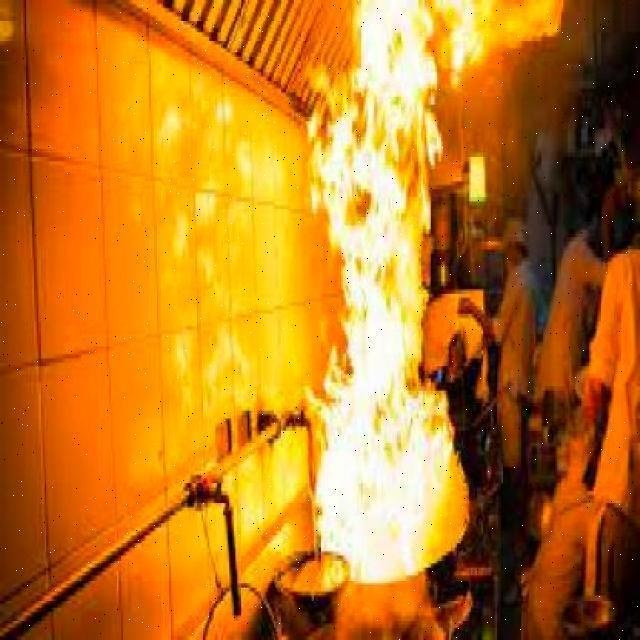fire: (305, 0, 497, 583)
